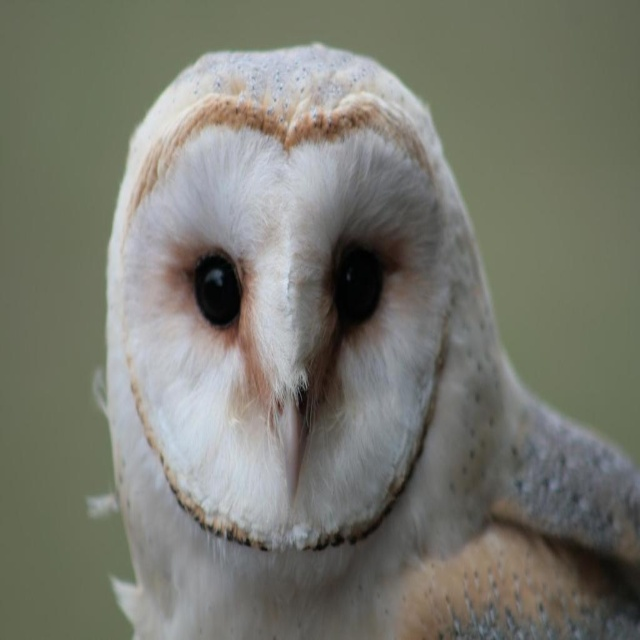Owl: (87, 41, 640, 639)
